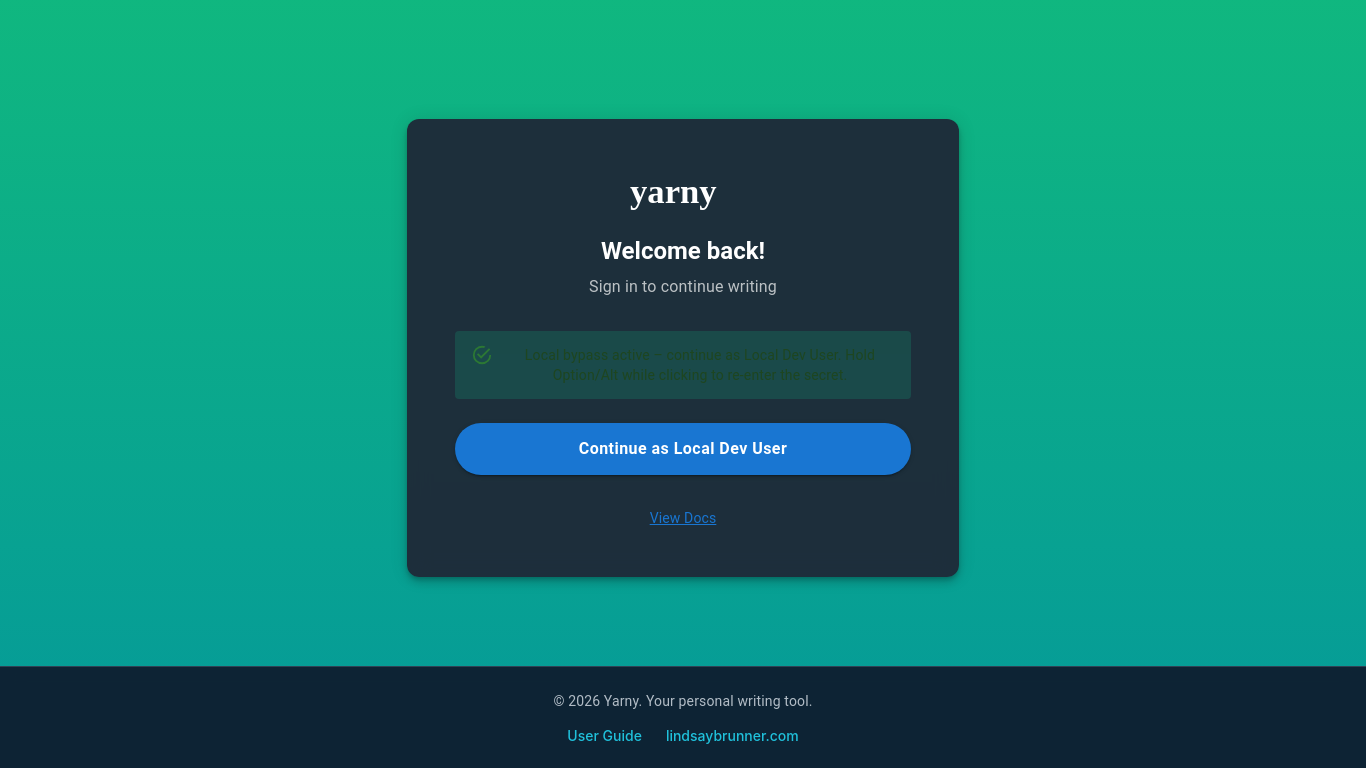
Test: LoginPage › shows error when local bypass secret is missing
Step 1. Click the button "Continue as Local Dev User" → coordinates (683, 449), box [455, 423, 911, 475]
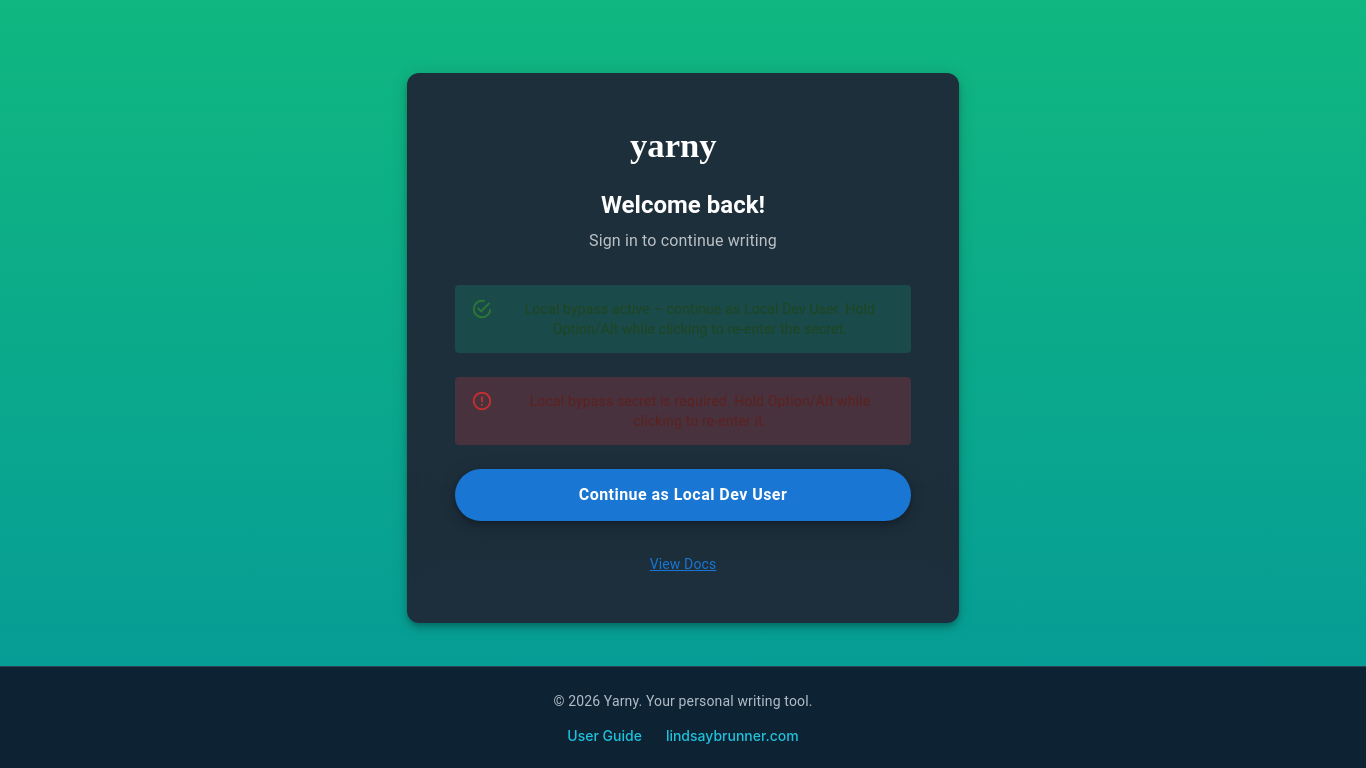
Expected: the text "Local bypass secret is required" is shown, [530, 393, 870, 429]
